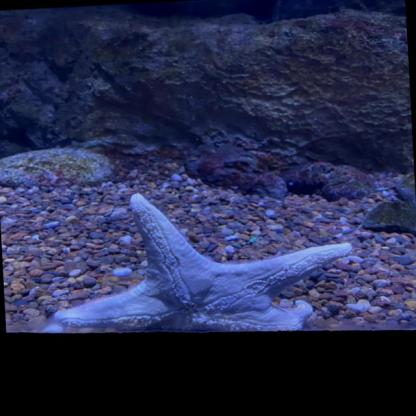starfish: (48, 180, 358, 347)
